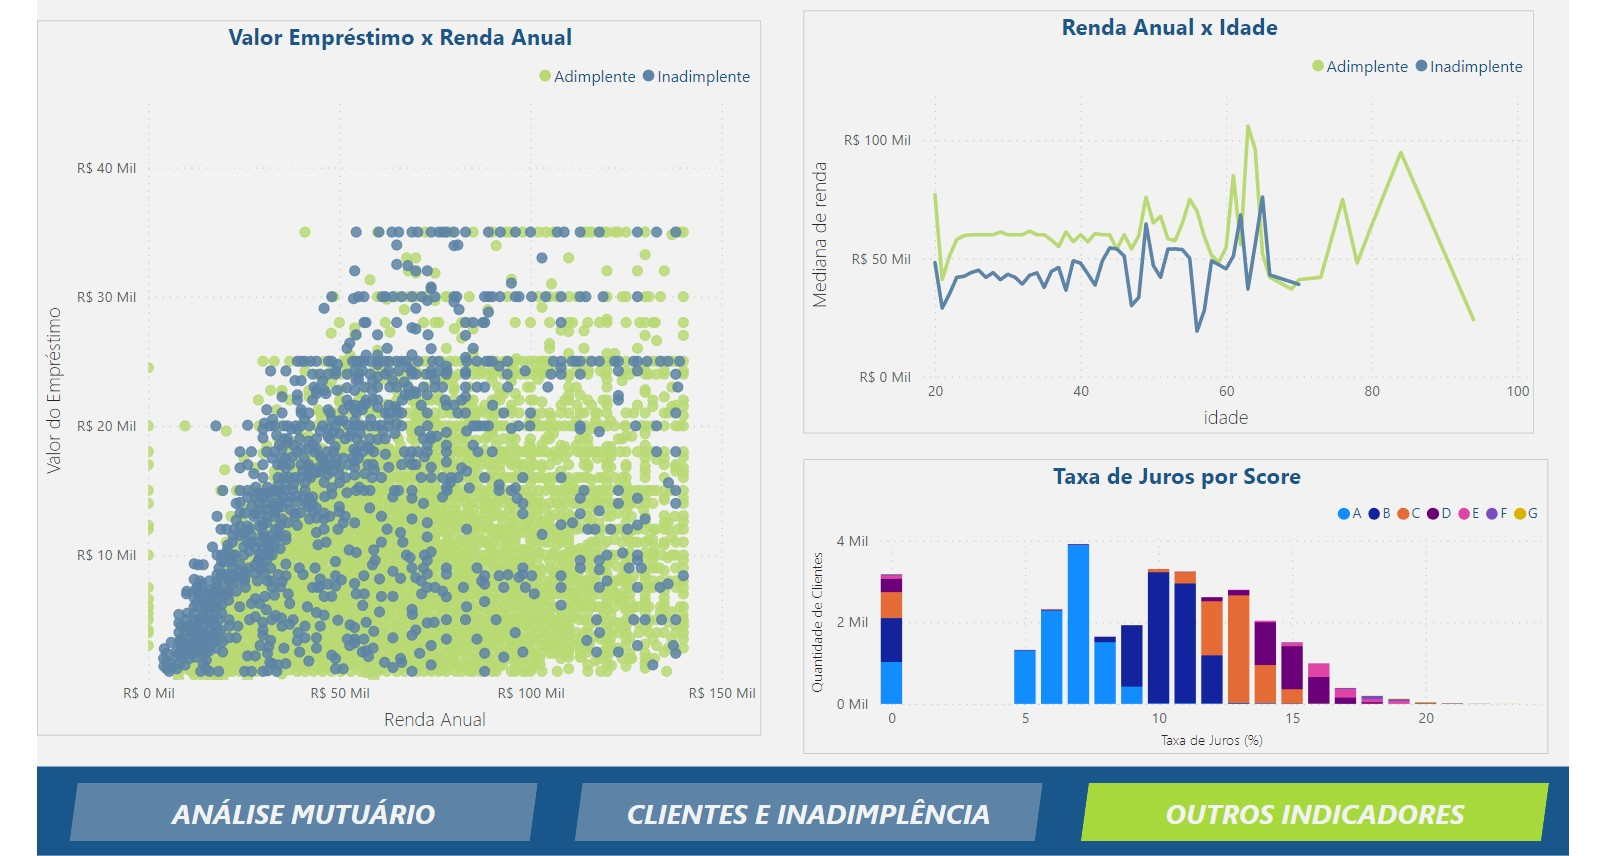

The page's visual inventory and layout, read from the dashboard file:
{"tool":"powerbi","page":{"name":"Outros Indicadores","canvas":[1280,720],"ordinal":3},"visuals":[{"type":"shape","box":[0,645.4,1279.9,74.6],"z":0},{"type":"lineChart","title":"Renda Anual x Idade","fields":{"Y":["Median(fDadosClientes.renda)"],"Category":["fDadosClientes.idade"],"Series":["fDadosClientes.inadimplente_adimplente"]},"box":[640.2,13.3,610,353.8],"z":1000},{"type":"scatterChart","title":"Valor Empréstimo x Renda Anual","fields":{"Y":["fDadosClientes.valor_emprestimo"],"X":["fDadosClientes.renda"],"Series":["fDadosClientes.inadimplente_adimplente"]},"box":[0,22.2,604.7,597.6],"z":2000},{"type":"actionButton","title":"índice","box":[26.9,658.9,391.2,48.9],"z":3000},{"type":"actionButton","title":"índice","box":[449.2,658.9,391.2,48.9],"z":4000},{"type":"actionButton","title":"índice","box":[871.6,658.9,391.2,48.9],"z":5000},{"type":"columnChart","title":"Taxa de Juros por Score","fields":{"Series":["fDadosClientes.score"],"Category":["fDadosClientes.taxa_juros (compartimentos)"],"Y":["fDadosClientes.Count_taxa_juros"]},"box":[640.2,388.4,622.5,246.5],"z":7000}]}

Visuals, with their boxes on the page's 1280x720 design canvas (x1, y1, x2, y2). These are canvas units, not pixel positions in the 1612x856 screenshot, which may show the page scaled, cropped or inside an application window:
shape: [0, 645, 1280, 720]
"Renda Anual x Idade" lineChart: [640, 13, 1250, 367]
"Valor Empréstimo x Renda Anual" scatterChart: [0, 22, 605, 620]
"índice" actionButton: [27, 659, 418, 708]
"índice" actionButton: [449, 659, 840, 708]
"índice" actionButton: [872, 659, 1263, 708]
"Taxa de Juros por Score" columnChart: [640, 388, 1263, 635]
